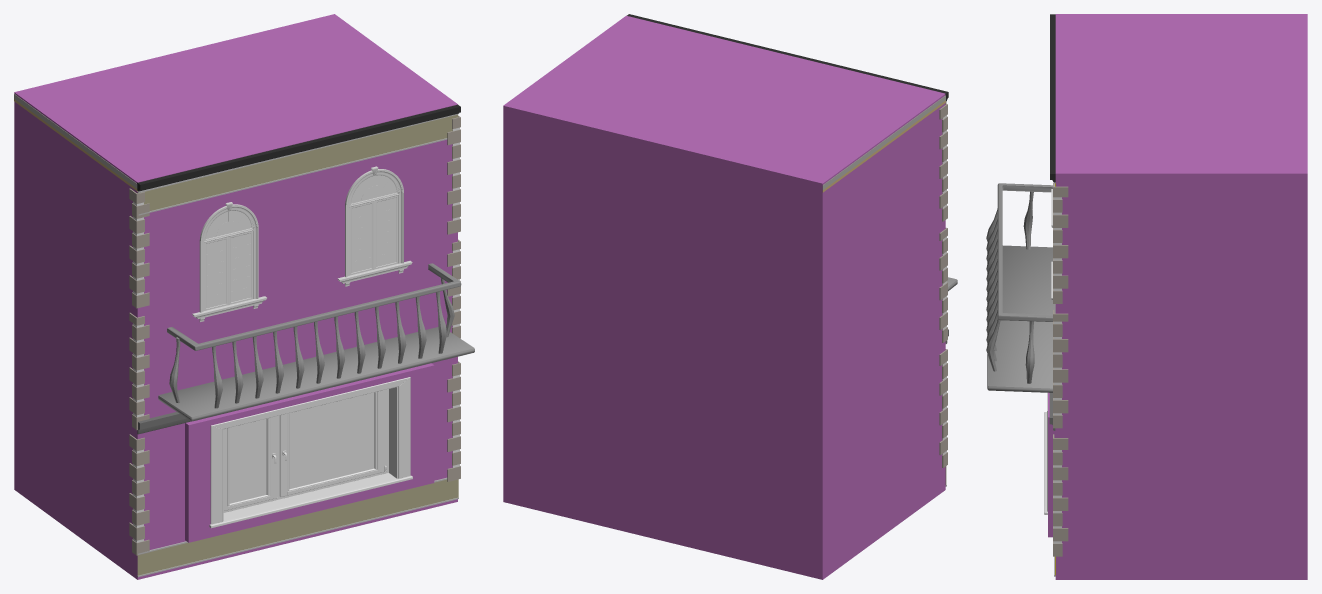
The model's file is last_build_3.fbx.
The picture shows the model from 3 angles, left to right: view 1: azimuth 30°, elevation 25°; view 2: azimuth 150°, elevation 25°; view 3: azimuth 270°, elevation 25°; orthographic projection. The views are drawn at different scales.
Visible parts, largest first — view 1: building_3; view 2: building_3; view 3: building_3.
Boxes of the visible parts, x1,y1,x2,y2 form: building_3: (14, 14, 474, 579); building_3: (503, 14, 957, 579); building_3: (986, 14, 1307, 579).
Bounding box in the file's own units: 136 × 160 × 115.
